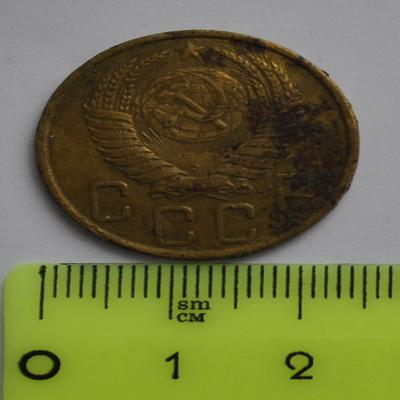numismatics: (36, 30, 358, 259)
